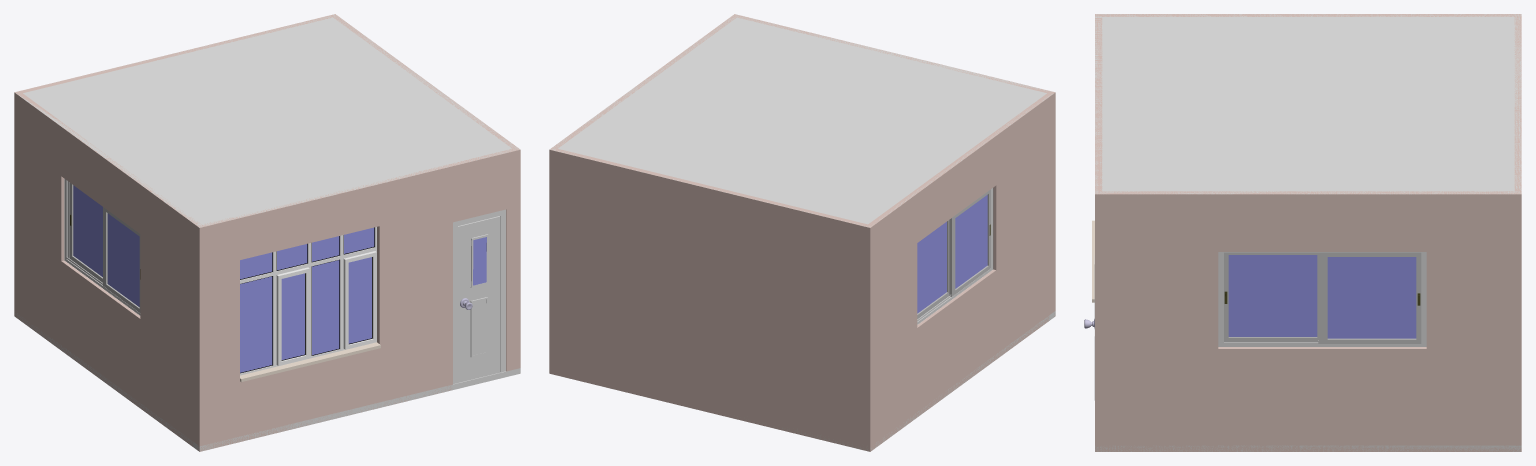
Rendered from Shop.fbx.
The picture shows the model from 3 angles, left to right: view 1: azimuth 30°, elevation 25°; view 2: azimuth 150°, elevation 25°; view 3: azimuth 270°, elevation 25°; orthographic projection. The views are drawn at different scales.
Parts seen in each view (by area): view 1: Room, Ceiling, Window, Door, Window.R, Baseboard, Window.L, DoorFrame, WindowFrame; view 2: Room, Ceiling, Window.R, Window.L, Baseboard, WindowFrame; view 3: Room, Ceiling, Window.R.001, Window.L.001, WindowFrame.001, Baseboard.
Boxes of the visible parts, box(x1,y1,x2,y2) form: Room: box(14, 14, 520, 451); Ceiling: box(16, 14, 519, 227); Window: box(240, 227, 380, 381); Door: box(458, 216, 500, 382); Window.R: box(103, 207, 140, 312); Baseboard: box(14, 311, 520, 451); Window.L: box(69, 182, 102, 282); DoorFrame: box(453, 209, 505, 383); WindowFrame: box(64, 179, 140, 315); Room: box(549, 14, 1055, 451); Ceiling: box(550, 14, 1052, 227); Window.R: box(949, 189, 990, 296); Window.L: box(917, 220, 949, 318); Baseboard: box(734, 311, 1055, 450); WindowFrame: box(917, 188, 993, 324); Room: box(1095, 14, 1521, 451); Ceiling: box(1095, 14, 1521, 194); Window.R.001: box(1318, 252, 1421, 343); Window.L.001: box(1224, 252, 1318, 341); WindowFrame.001: box(1218, 252, 1426, 346); Baseboard: box(1095, 445, 1521, 451).
Bounding box in the file's own units: 300 × 200 × 308.
